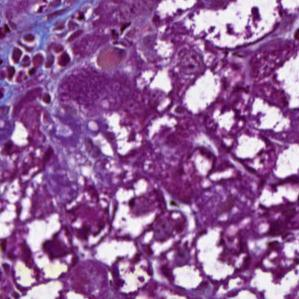inflammation: (6, 27, 76, 74)
